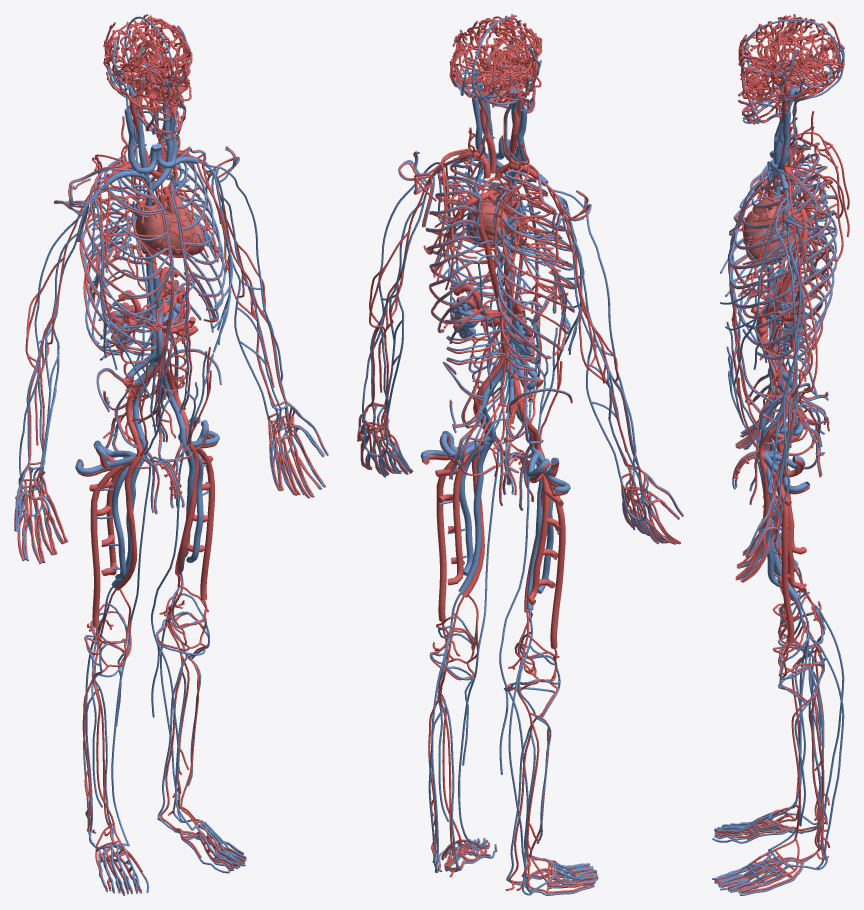
Rendered from cardio-v1.glb.
3 views of the same model, side by side, from view 1: azimuth 30°, elevation 25°; view 2: azimuth 150°, elevation 25°; view 3: azimuth 270°, elevation 25° (orthographic). The views are drawn at different scales.
Parts seen in each view (by area): view 1: Bifurcation of pulmonary trunk, Right superior pulmonary vein, heart; view 2: Bifurcation of pulmonary trunk, Right superior pulmonary vein, heart; view 3: Bifurcation of pulmonary trunk, Right superior pulmonary vein, heart.
Part boxes in pixels (<box>): Bifurcation of pulmonary trunk: <box>14,14,328,893</box>; Right superior pulmonary vein: <box>15,16,328,895</box>; heart: <box>135,73,204,256</box>; Bifurcation of pulmonary trunk: <box>357,14,683,893</box>; Right superior pulmonary vein: <box>358,16,683,895</box>; heart: <box>466,60,527,252</box>; Bifurcation of pulmonary trunk: <box>714,14,849,893</box>; Right superior pulmonary vein: <box>712,19,844,895</box>; heart: <box>743,71,801,262</box>.
Size of the model in its own units: 0.667 by 1.7 by 0.2511.
